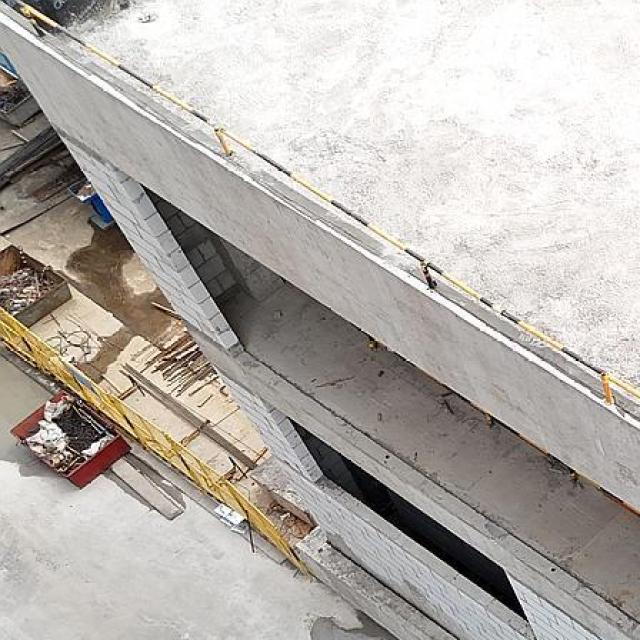edge_guardrail: (13, 0, 640, 404)
